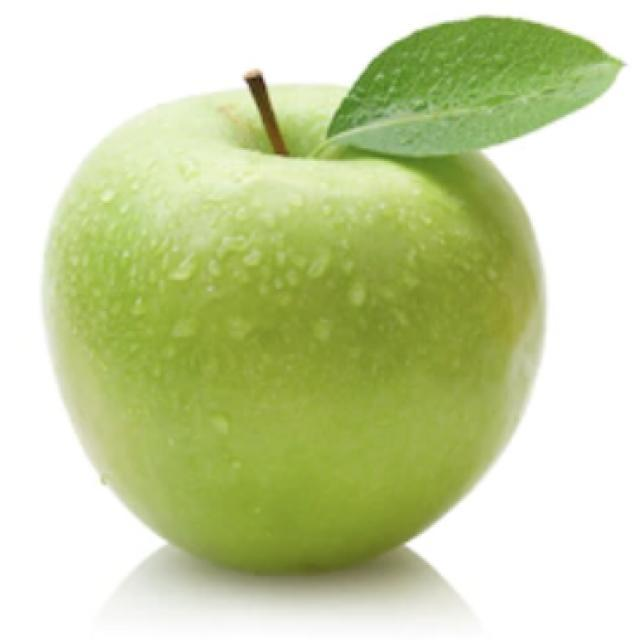Fresh Apple: (75, 95, 530, 552)
